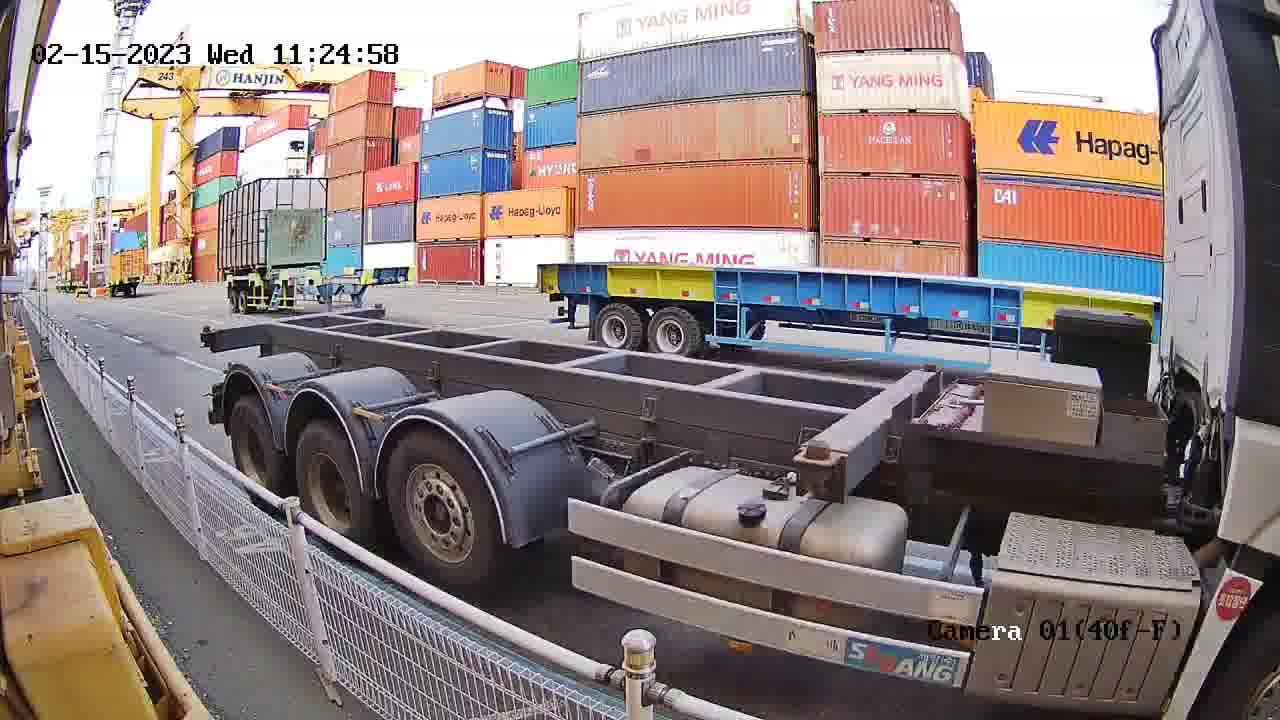Chassis: (806, 367, 945, 493), (218, 310, 383, 349)
Cone: (790, 442, 848, 503), (192, 322, 218, 356), (370, 301, 389, 319), (921, 361, 940, 375)
Tire: (388, 433, 497, 579), (293, 423, 366, 535), (231, 401, 281, 489)
